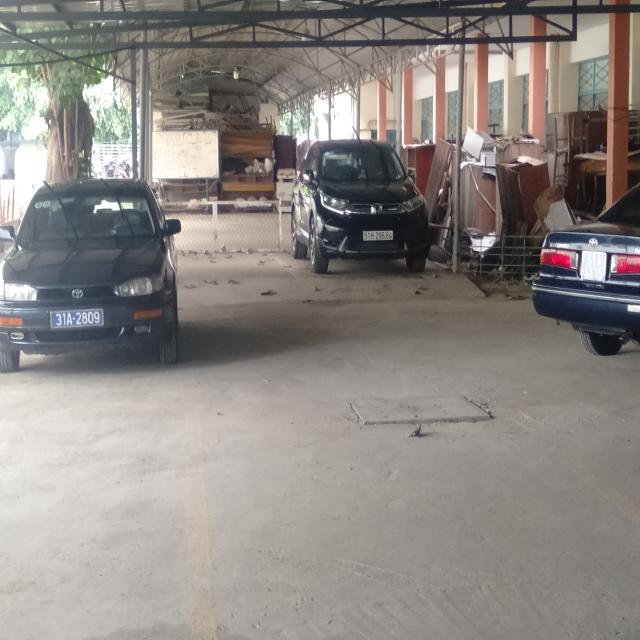bien_trang: (363, 231, 393, 241)
bien_xanh: (50, 310, 103, 327), (580, 250, 606, 282)
